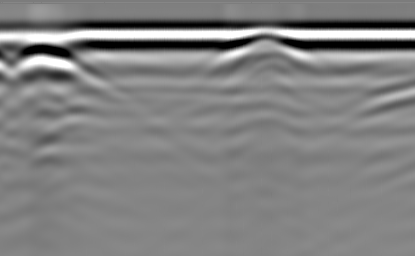pipe: (235, 32, 299, 54)
steel: (14, 45, 76, 84)
